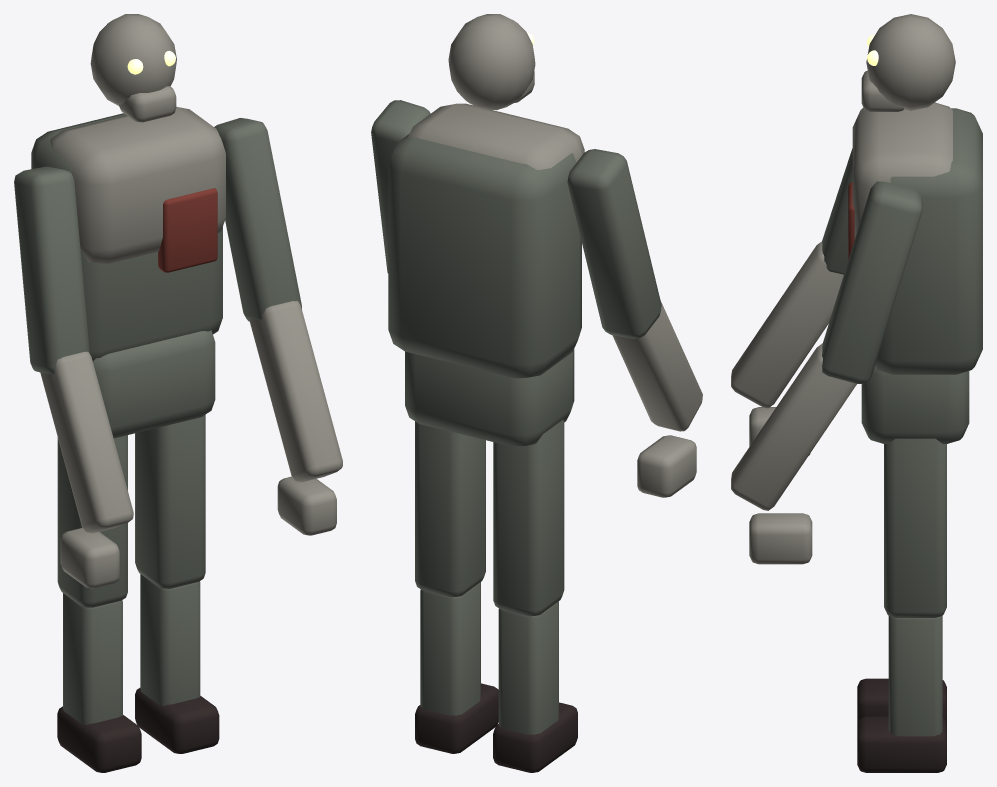
File: infected_v3.glb
3 views of the same model, side by side, from view 1: azimuth 30°, elevation 25°; view 2: azimuth 150°, elevation 25°; view 3: azimuth 270°, elevation 25° (orthographic).
Parts seen in each view (by area): view 1: Infected_Chest, Infected_Torso, Infected_Arm_-1, Infected_Leg_1, Infected_Arm_1, Infected_Hips, Infected_Forearm_1, Infected_Forearm_-1, Infected_Shin_1, Infected_Shin_-1, Infected_Head, Infected_Wound (+6 smaller); view 2: Infected_Torso, Infected_Leg_-1, Infected_Arm_-1, Infected_Hips, Infected_Leg_1, Infected_Shin_-1, Infected_Shin_1, Infected_Chest, Infected_Head, Infected_Forearm_-1, Infected_Boot_-1, Infected_Boot_1 (+2 smaller); view 3: Infected_Torso, Infected_Arm_1, Infected_Leg_1, Infected_Forearm_1, Infected_Forearm_-1, Infected_Chest, Infected_Hips, Infected_Shin_1, Infected_Head, Infected_Boot_1, Infected_Hand_1, Infected_Arm_-1 (+3 smaller).
Part boxes in pixels (bbox=[...]): Infected_Chest: bbox=[50, 106, 225, 263]; Infected_Torso: bbox=[31, 113, 222, 361]; Infected_Arm_-1: bbox=[14, 166, 89, 374]; Infected_Leg_1: bbox=[135, 414, 205, 588]; Infected_Arm_1: bbox=[214, 118, 301, 321]; Infected_Hips: bbox=[93, 330, 215, 438]; Infected_Forearm_1: bbox=[249, 301, 342, 482]; Infected_Forearm_-1: bbox=[40, 351, 133, 533]; Infected_Shin_1: bbox=[140, 574, 200, 705]; Infected_Shin_-1: bbox=[63, 593, 122, 724]; Infected_Head: bbox=[90, 14, 176, 105]; Infected_Wound: bbox=[158, 188, 217, 272]; Infected_Torso: bbox=[388, 134, 581, 378]; Infected_Leg_-1: bbox=[493, 419, 564, 616]; Infected_Arm_-1: bbox=[567, 149, 661, 338]; Infected_Hips: bbox=[405, 349, 574, 446]; Infected_Leg_1: bbox=[415, 421, 485, 597]; Infected_Shin_-1: bbox=[498, 601, 558, 734]; Infected_Shin_1: bbox=[420, 582, 480, 715]; Infected_Chest: bbox=[408, 103, 584, 169]; Infected_Head: bbox=[448, 14, 535, 110]; Infected_Forearm_-1: bbox=[612, 300, 702, 431]; Infected_Boot_-1: bbox=[493, 702, 577, 772]; Infected_Boot_1: bbox=[415, 683, 498, 753]; Infected_Torso: bbox=[875, 108, 982, 374]; Infected_Arm_1: bbox=[822, 181, 922, 383]; Infected_Leg_1: bbox=[884, 438, 946, 617]; Infected_Forearm_1: bbox=[731, 343, 856, 510]; Infected_Forearm_-1: bbox=[731, 241, 843, 408]; Infected_Chest: bbox=[852, 102, 952, 239]; Infected_Hips: bbox=[861, 366, 969, 443]; Infected_Shin_1: bbox=[888, 616, 942, 736]; Infected_Head: bbox=[866, 14, 955, 110]; Infected_Boot_1: bbox=[857, 716, 946, 772]; Infected_Hand_1: bbox=[749, 513, 812, 564]; Infected_Arm_-1: bbox=[822, 148, 852, 274].
Size of the model in its own units: 0.6586 by 1.79 by 0.5609.
